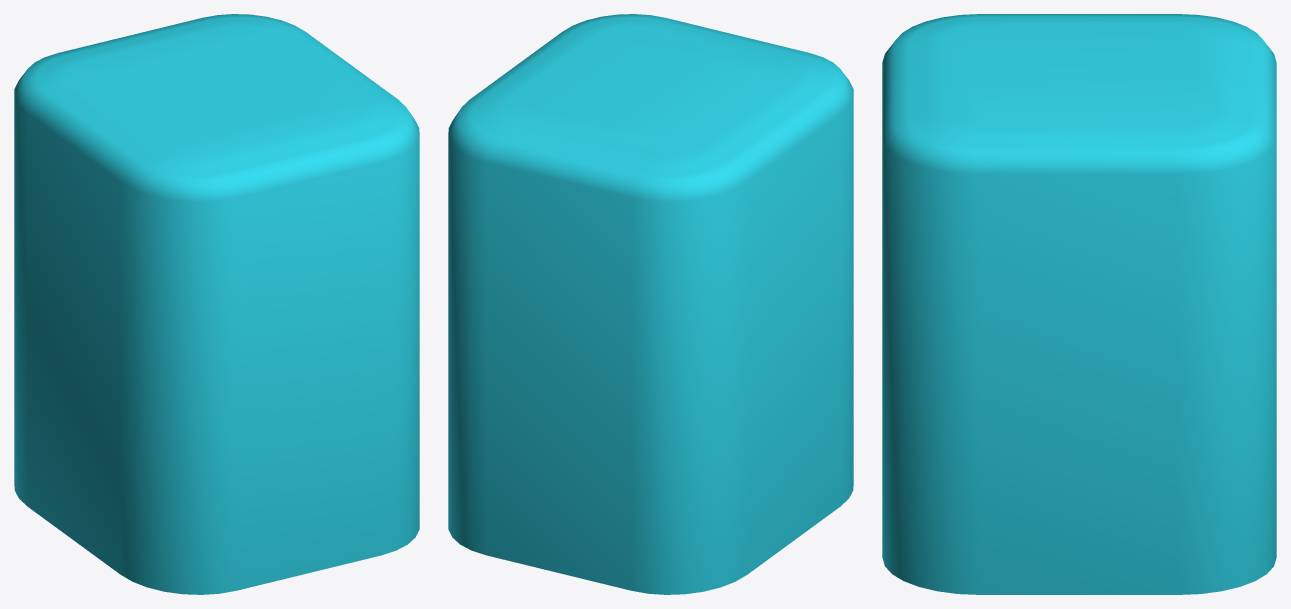
File: body.glb
3 renders of one model, left to right at view 1: azimuth 30°, elevation 25°; view 2: azimuth 150°, elevation 25°; view 3: azimuth 270°, elevation 25°, orthographic. The views are drawn at different scales.
Parts seen in each view (by area): view 1: body-0; view 2: body-0; view 3: body-0.
Part boxes in pixels (box(x1,y1,x2,y2)): body-0: box(14, 14, 419, 594); body-0: box(448, 14, 853, 594); body-0: box(882, 14, 1276, 594).
Size of the model in its own units: 0.8937 by 1.24 by 0.9963.
